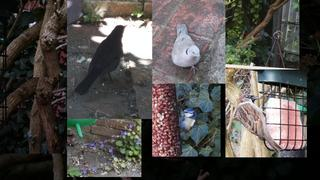blackbird: (74, 24, 128, 95)
blue tit: (176, 108, 197, 138)
collared dove: (171, 24, 201, 75)
sparrow: (236, 93, 283, 153)
